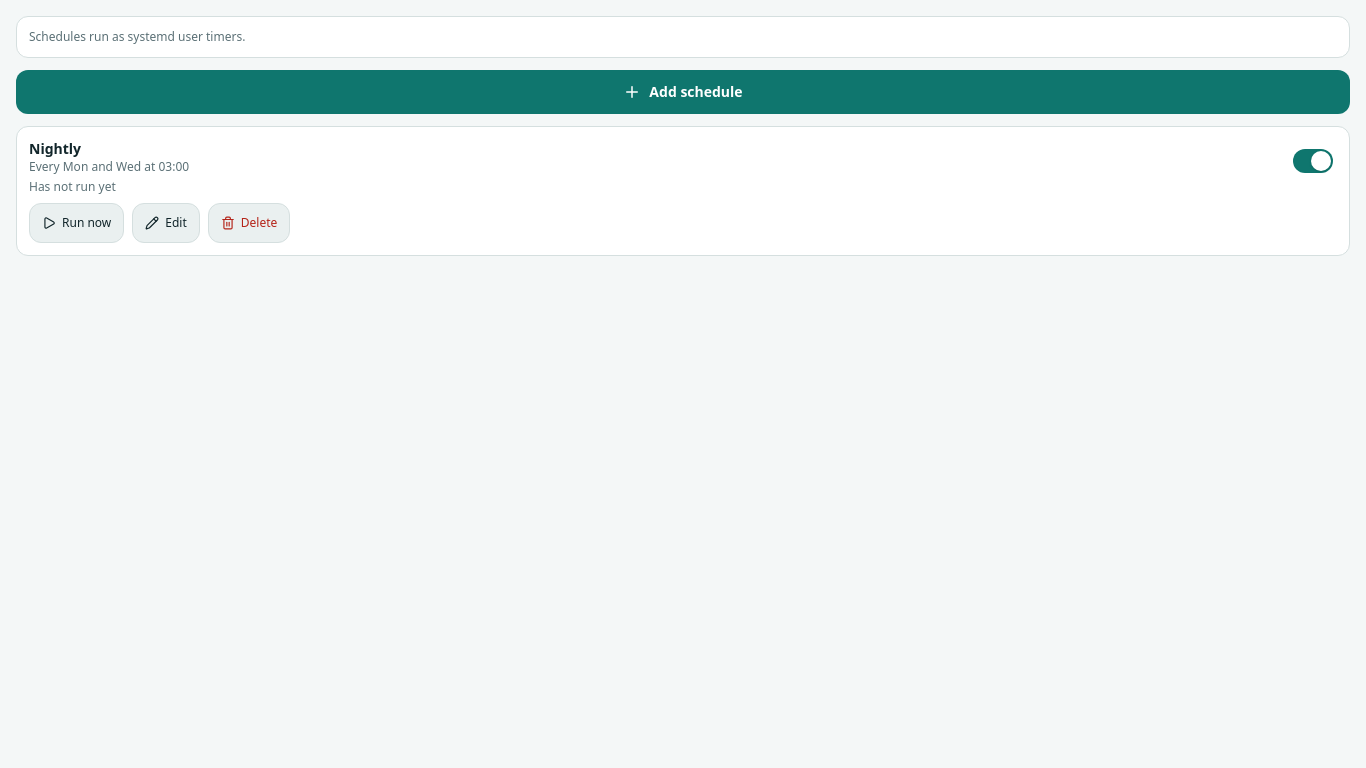
SchedulesPage › shows a server error in the sheet and keeps it open
Click the button with test id "schedule-add": click(683, 92) [16, 70, 1350, 114]
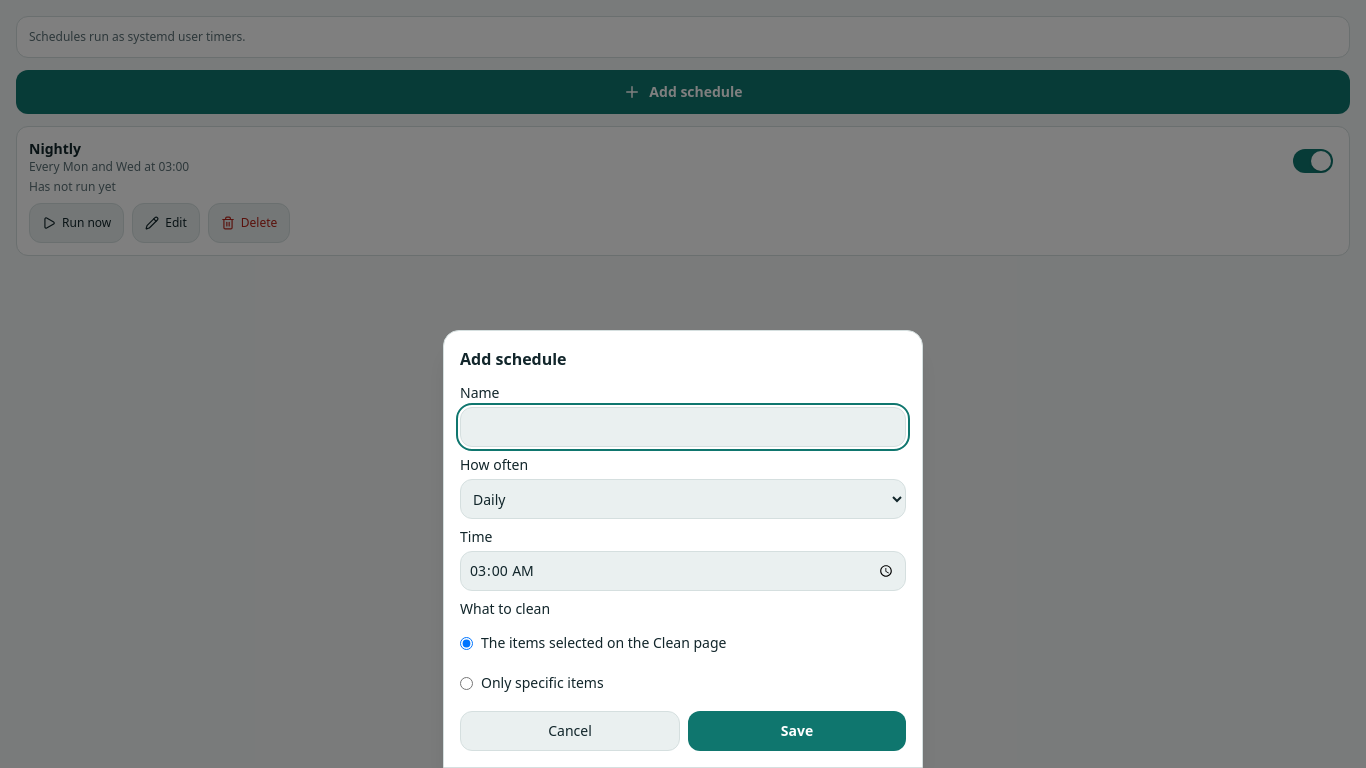
In the field with test id "schedule-name": (683, 427) [460, 407, 906, 447], type "X"
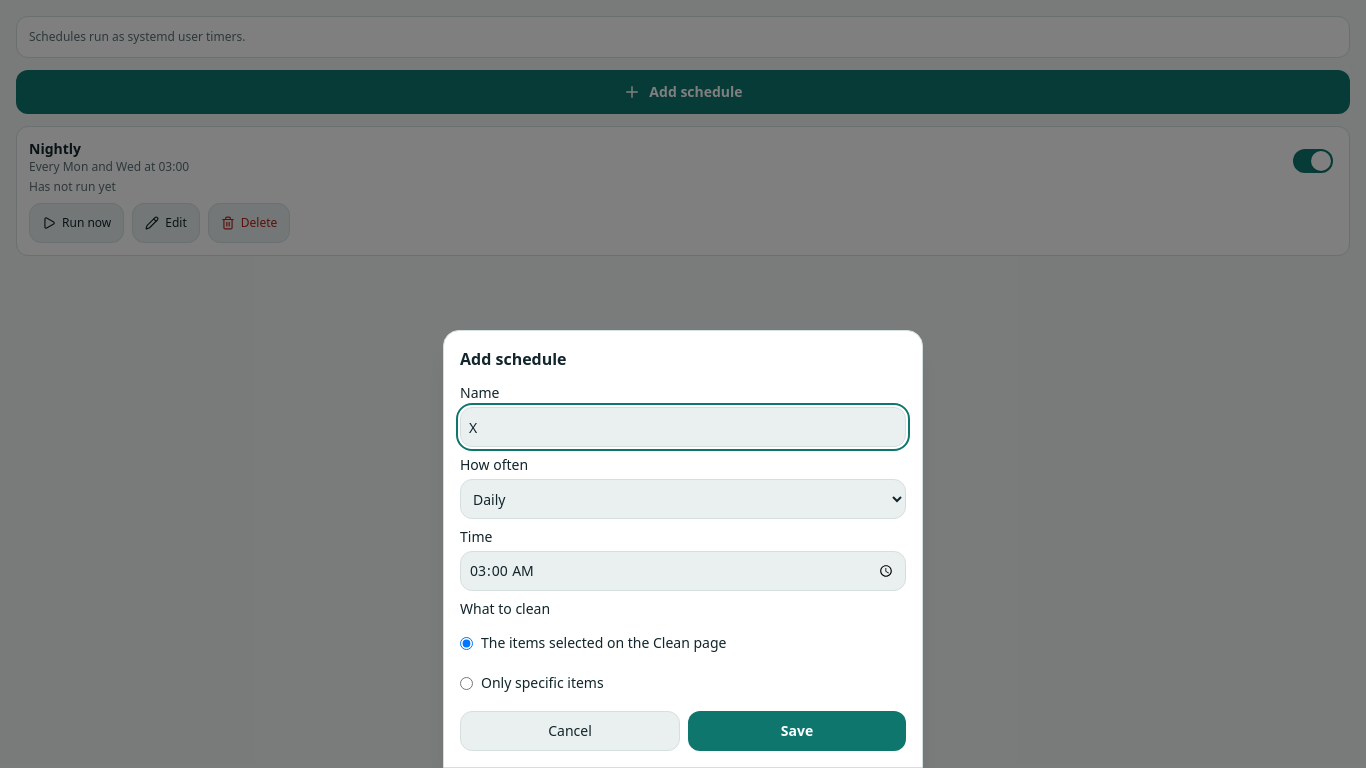
Click the button with test id "schedule-save": click(797, 731) [688, 711, 906, 751]
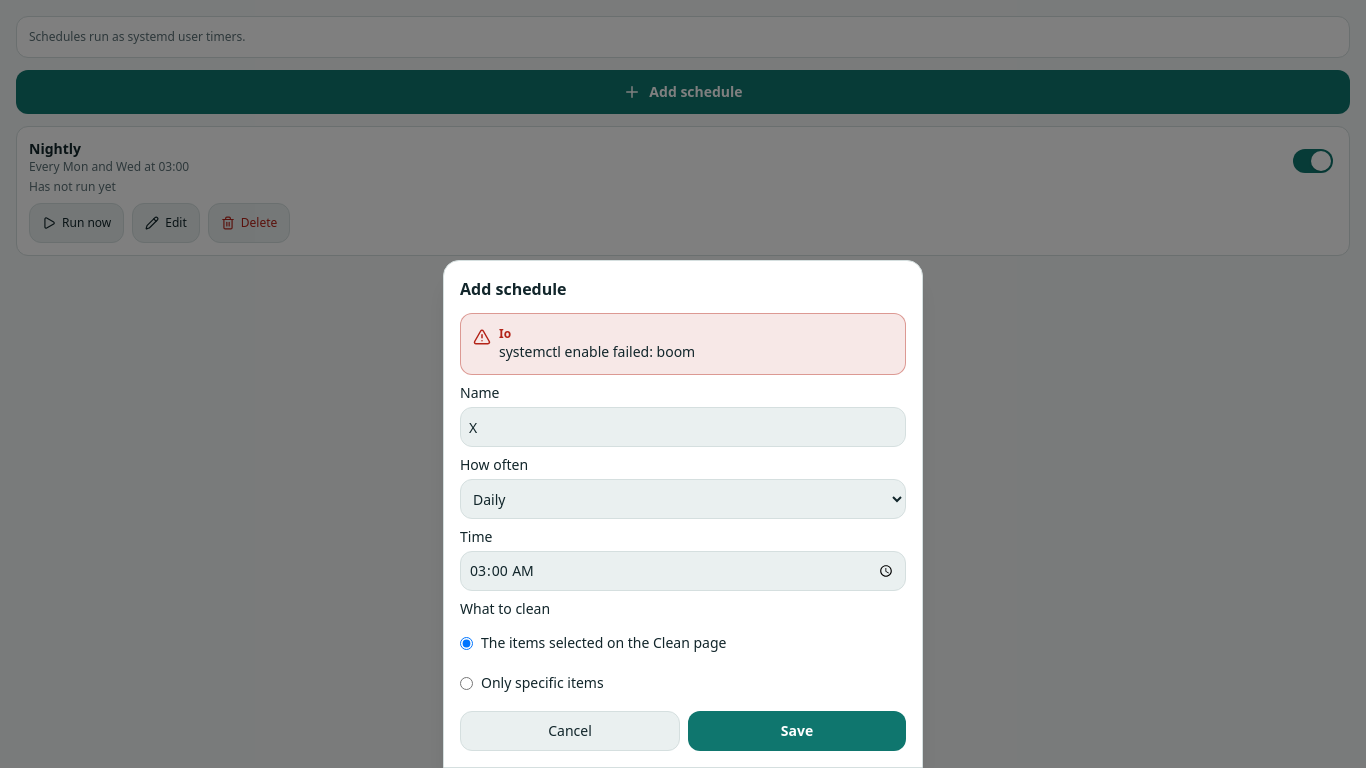
Result: the message with test id "error-banner" shows "boom" at [499, 342, 695, 361]
